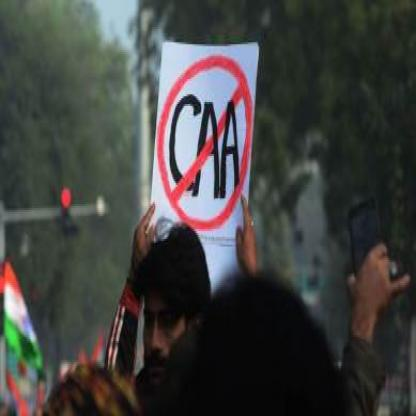BANNER: (152, 42, 259, 291)
